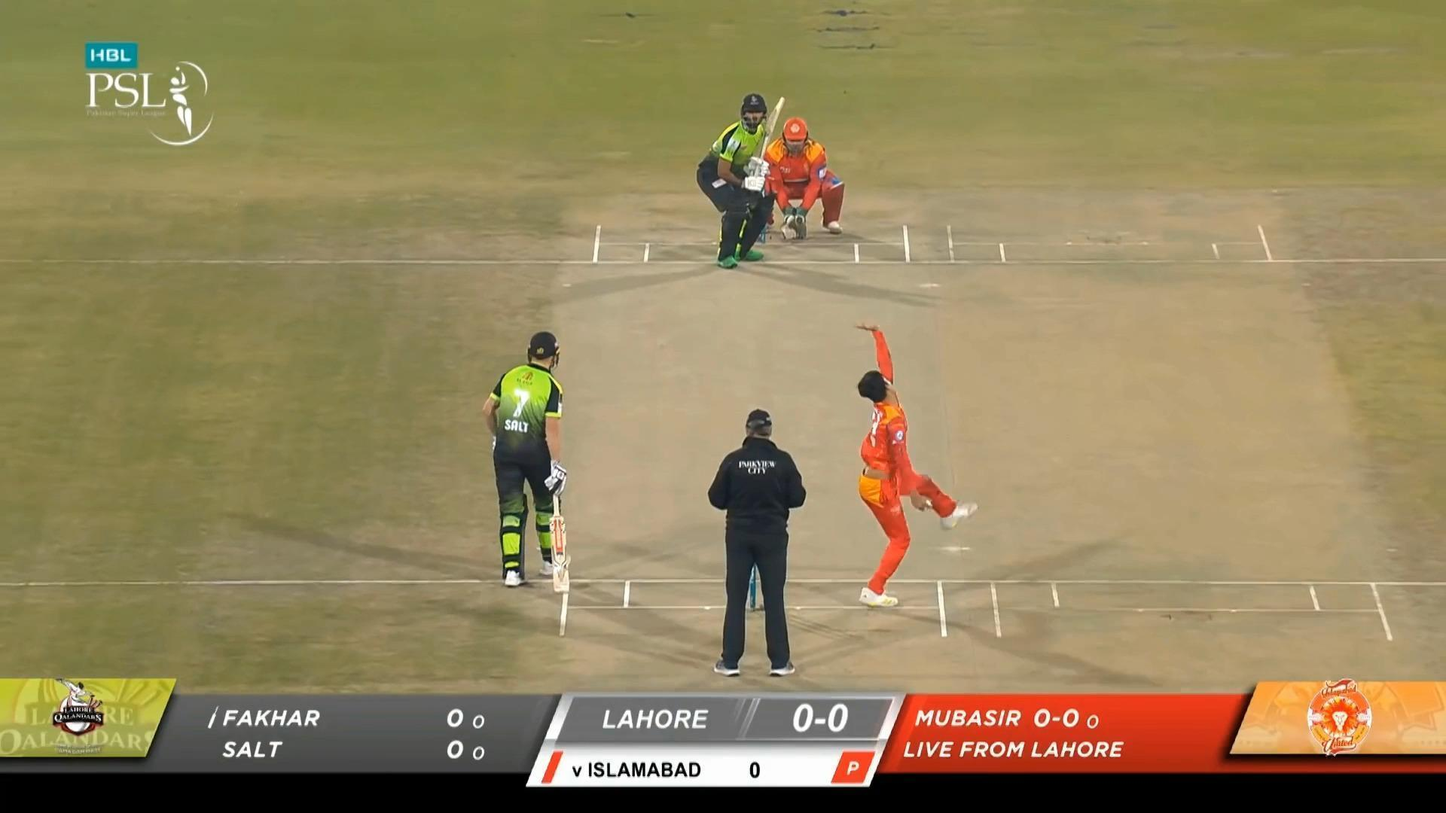BM 1: (696, 94, 786, 269)
BO: (851, 322, 979, 608)
